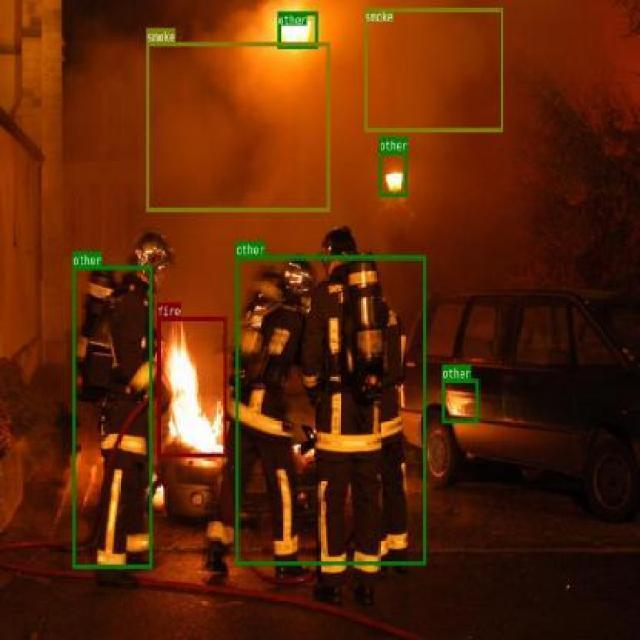Fire: (168, 318, 237, 458)
Smoke: (58, 0, 628, 323)
